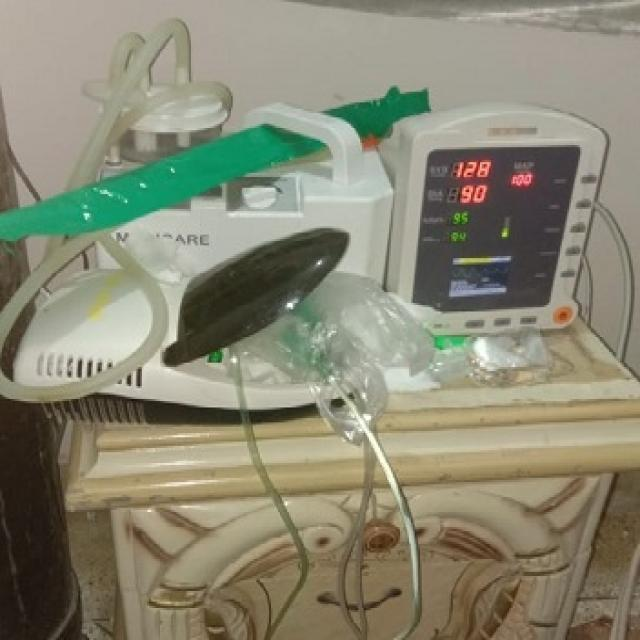Monitor: (4, 64, 640, 480)
